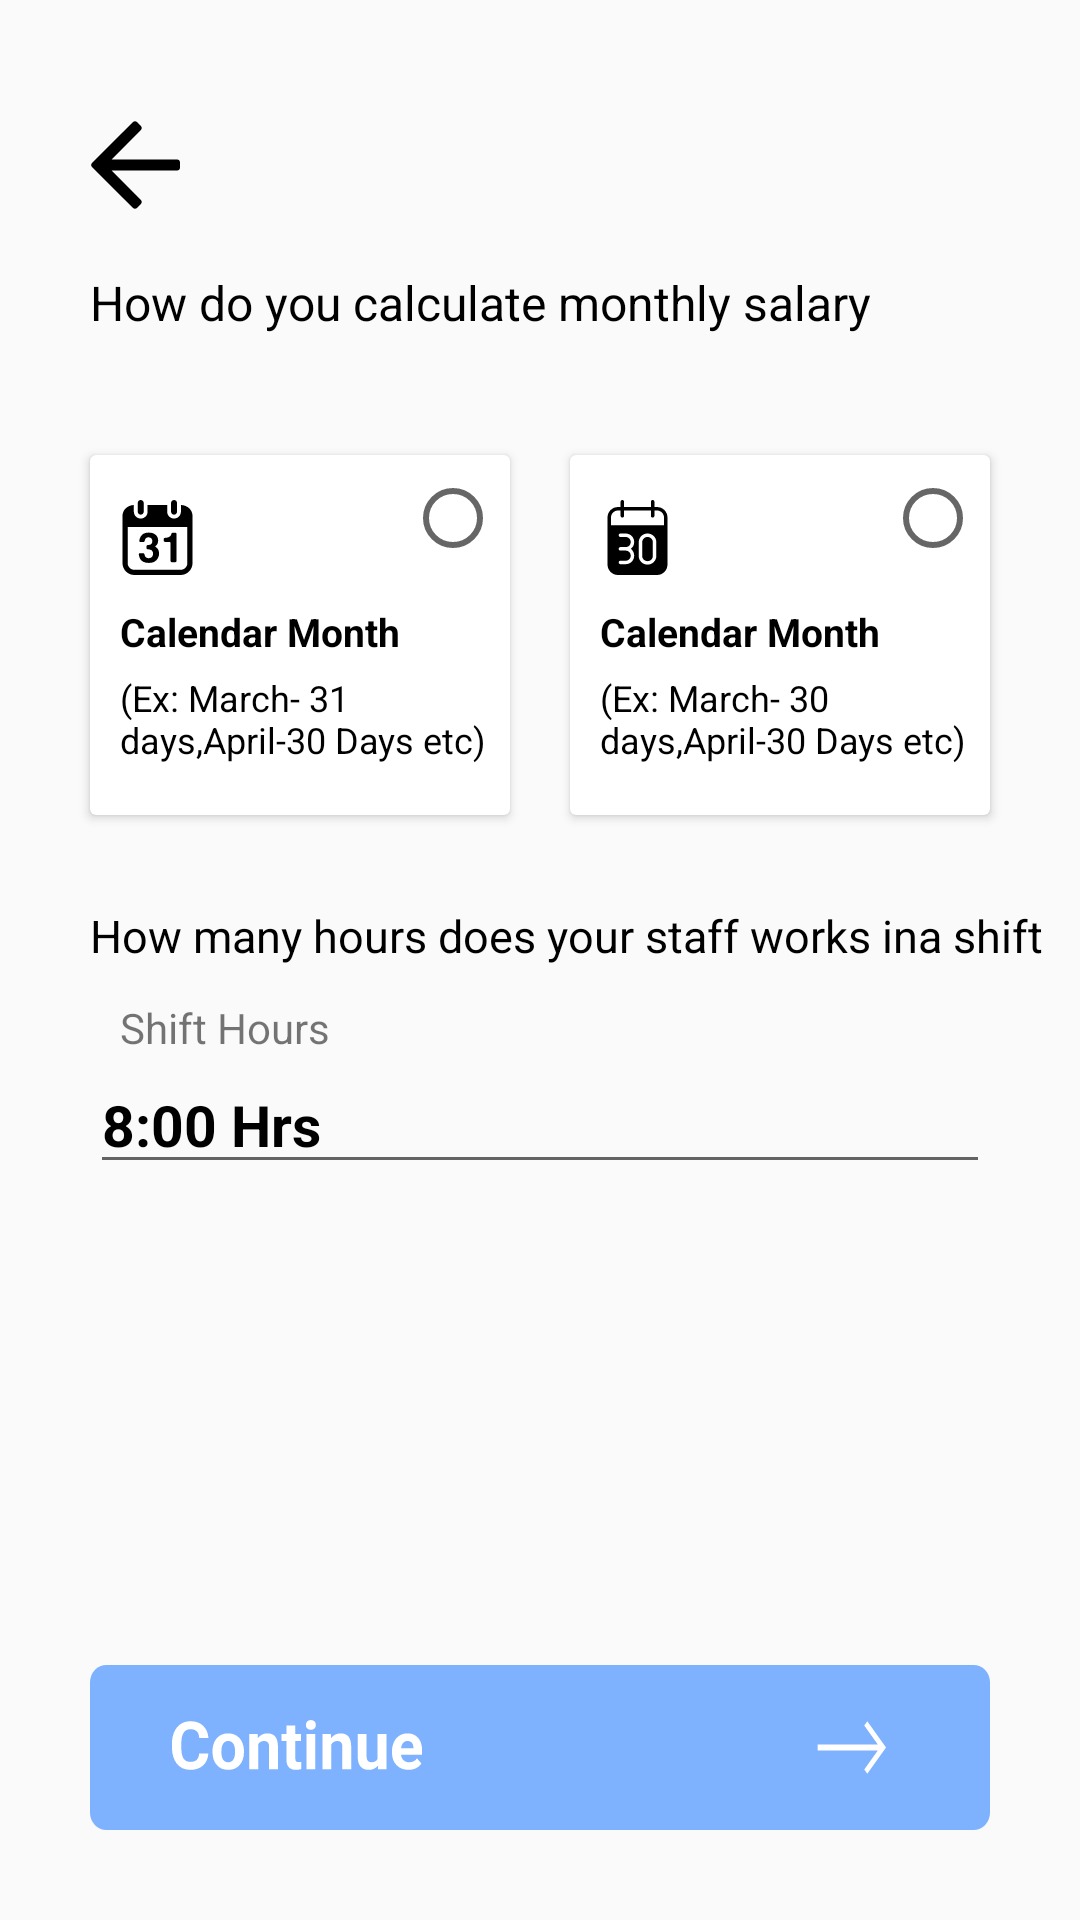

Locate icon controls on the screen. Image size 1080w x 1920h, boxes as (x1, y1, x2, y2).
back: (91, 121, 180, 209)
calendar day thirty: (607, 500, 668, 575)
